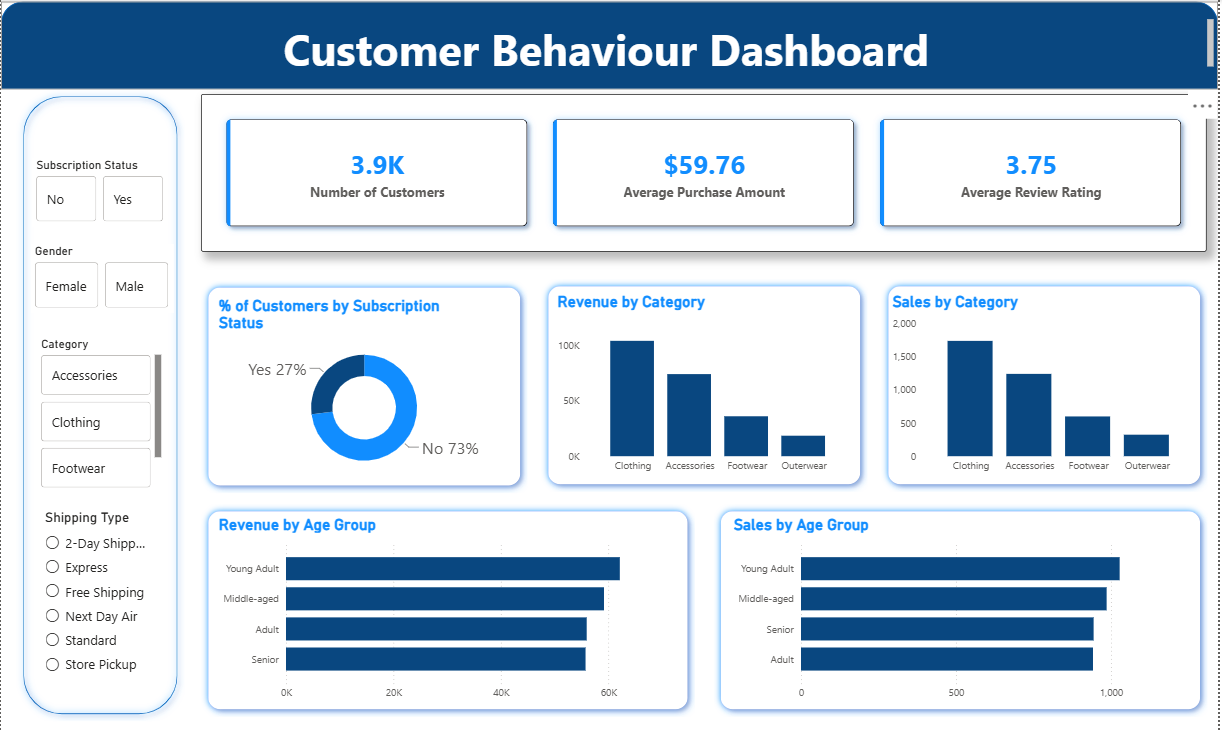

This screenshot's page, from the dashboard's own definition file:
{"tool":"powerbi","page":{"name":"Page 1","canvas":[1500,907],"ordinal":0},"visuals":[{"type":"shape","box":[246.8,622.2,608.7,262.1],"z":0},{"type":"shape","box":[666.2,344.9,402.4,262.1],"z":1000},{"type":"shape","box":[1083.8,344.9,402.4,262.1],"z":2000},{"type":"shape","box":[246.8,346.6,402.4,262.1],"z":3000},{"type":"cardVisual","fields":{"Data":["Measures Table.Number of Customers","Measures Table.Average Purchase Amount","Measures Table.Average Review Rating"]},"box":[246.8,116.7,1239.3,194.4],"z":4000},{"type":"shape","box":[0,3.4,1499.7,108.2],"z":5000},{"type":"textbox","box":[0,20.3,1499.7,74.4],"z":6000},{"type":"donutChart","title":"% of Customers by Subscription Status","fields":{"Category":["public customer.subscription_status"],"Y":["CountNonNull(public customer.customer_id)"]},"box":[263.8,366.9,368.6,226.6],"z":7000},{"type":"clusteredColumnChart","title":"Revenue by Category","fields":{"Y":["Sum(public customer.purchase_amount)"],"Category":["public customer.category"]},"box":[681.4,361.8,370.3,231.6],"z":8000},{"type":"clusteredColumnChart","title":"Sales by Category","fields":{"Category":["public customer.category"],"Y":["CountNonNull(public customer.customer_id)"]},"box":[1093.9,361.8,382.1,231.6],"z":9000},{"type":"shape","box":[18.6,111.6,208,779.4],"z":10000},{"type":"advancedSlicerVisual","fields":{"Values":["public customer.subscription_status"]},"box":[38.9,196.1,167.4,84.5],"z":11000},{"type":"advancedSlicerVisual","fields":{"Values":["public customer.gender"]},"box":[37.2,302.6,175.8,84.5],"z":12000},{"type":"advancedSlicerVisual","title":"Category","fields":{"Values":["public customer.category"]},"box":[44,415.9,158.9,191.1],"z":13000},{"type":"listSlicer","fields":{"Values":["public customer.shipping_type"]},"box":[49,629,150.5,221.5],"z":14000},{"type":"clusteredBarChart","title":"Revenue by Age Group","fields":{"Y":["Sum(public customer.purchase_amount)"],"Category":["public customer.age_group"]},"box":[263.8,635.7,566.4,236.7],"z":15000},{"type":"shape","box":[877.5,622.2,608.7,262.1],"z":16000},{"type":"clusteredBarChart","title":"Sales by Age Group","fields":{"Category":["public customer.age_group"],"Y":["CountNonNull(public customer.customer_id)"]},"box":[897.8,635.7,566.4,236.7],"z":16001}]}

Visuals, with their boxes in screenshot pixels (x1, y1, x2, y2), scaled from the page's 1500x907 canvas onto the 1222x730 screenshot:
shape: (x1=201, y1=501, x2=697, y2=712)
shape: (x1=543, y1=278, x2=871, y2=489)
shape: (x1=883, y1=278, x2=1211, y2=489)
shape: (x1=201, y1=279, x2=529, y2=490)
cardVisual - Measures Table.Number of Customers x Measures Table.Average Purchase Amount: (x1=201, y1=94, x2=1211, y2=250)
shape: (x1=0, y1=3, x2=1221, y2=90)
textbox: (x1=0, y1=16, x2=1221, y2=76)
"% of Customers by Subscription Status" donutChart: (x1=215, y1=295, x2=515, y2=478)
"Revenue by Category" clusteredColumnChart: (x1=555, y1=291, x2=857, y2=478)
"Sales by Category" clusteredColumnChart: (x1=891, y1=291, x2=1202, y2=478)
shape: (x1=15, y1=90, x2=185, y2=717)
advancedSlicerVisual - public customer.subscription_status: (x1=32, y1=158, x2=168, y2=226)
advancedSlicerVisual - public customer.gender: (x1=30, y1=244, x2=174, y2=312)
"Category" advancedSlicerVisual: (x1=36, y1=335, x2=165, y2=489)
listSlicer - public customer.shipping_type: (x1=40, y1=506, x2=163, y2=685)
"Revenue by Age Group" clusteredBarChart: (x1=215, y1=512, x2=676, y2=702)
shape: (x1=715, y1=501, x2=1211, y2=712)
"Sales by Age Group" clusteredBarChart: (x1=731, y1=512, x2=1193, y2=702)
